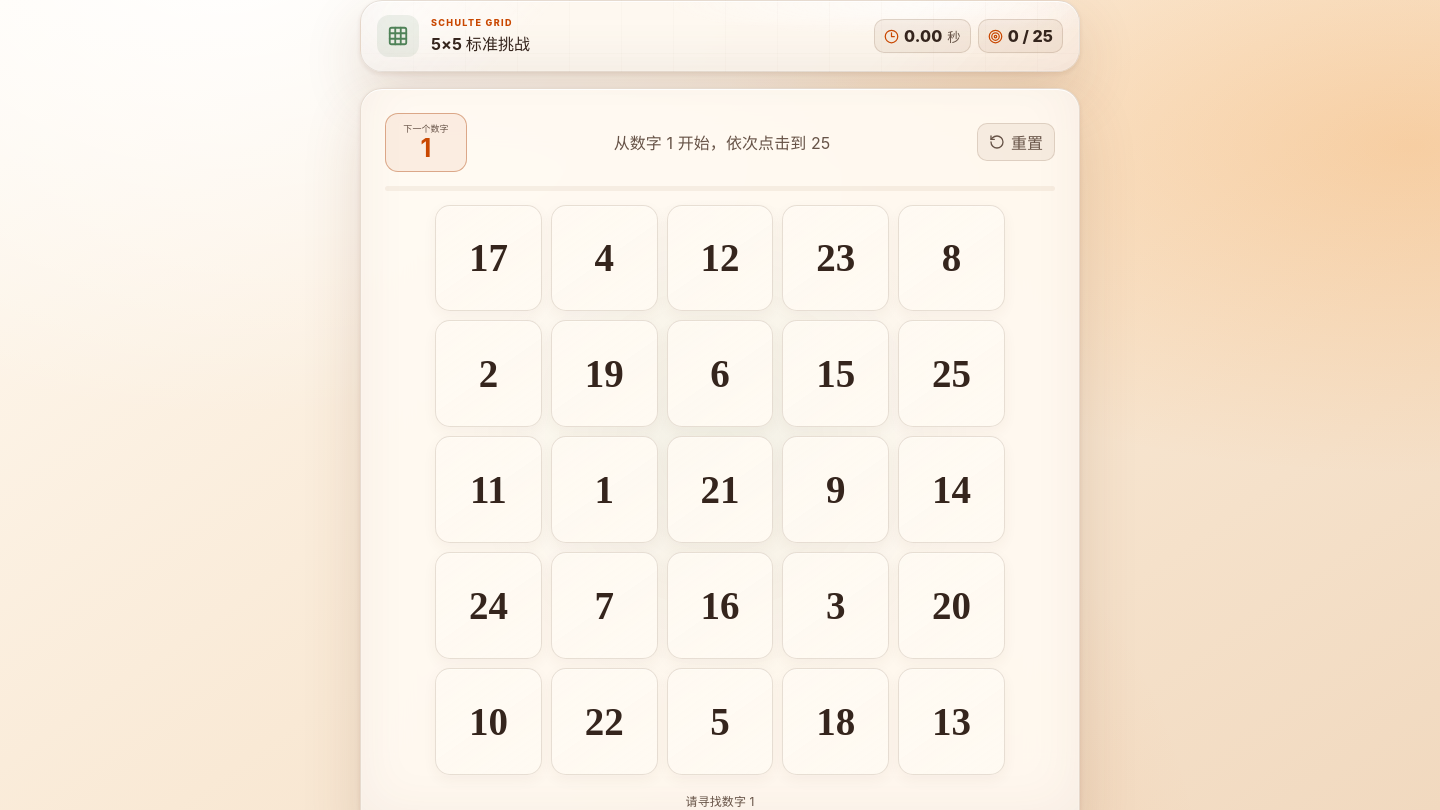
Scenario: SchulteGrid › updates the next number immediately and reports wrong taps
Step 1. Click the cell named "数字 17" → (488,258), box top-left (435, 204), bottom-right (542, 311)
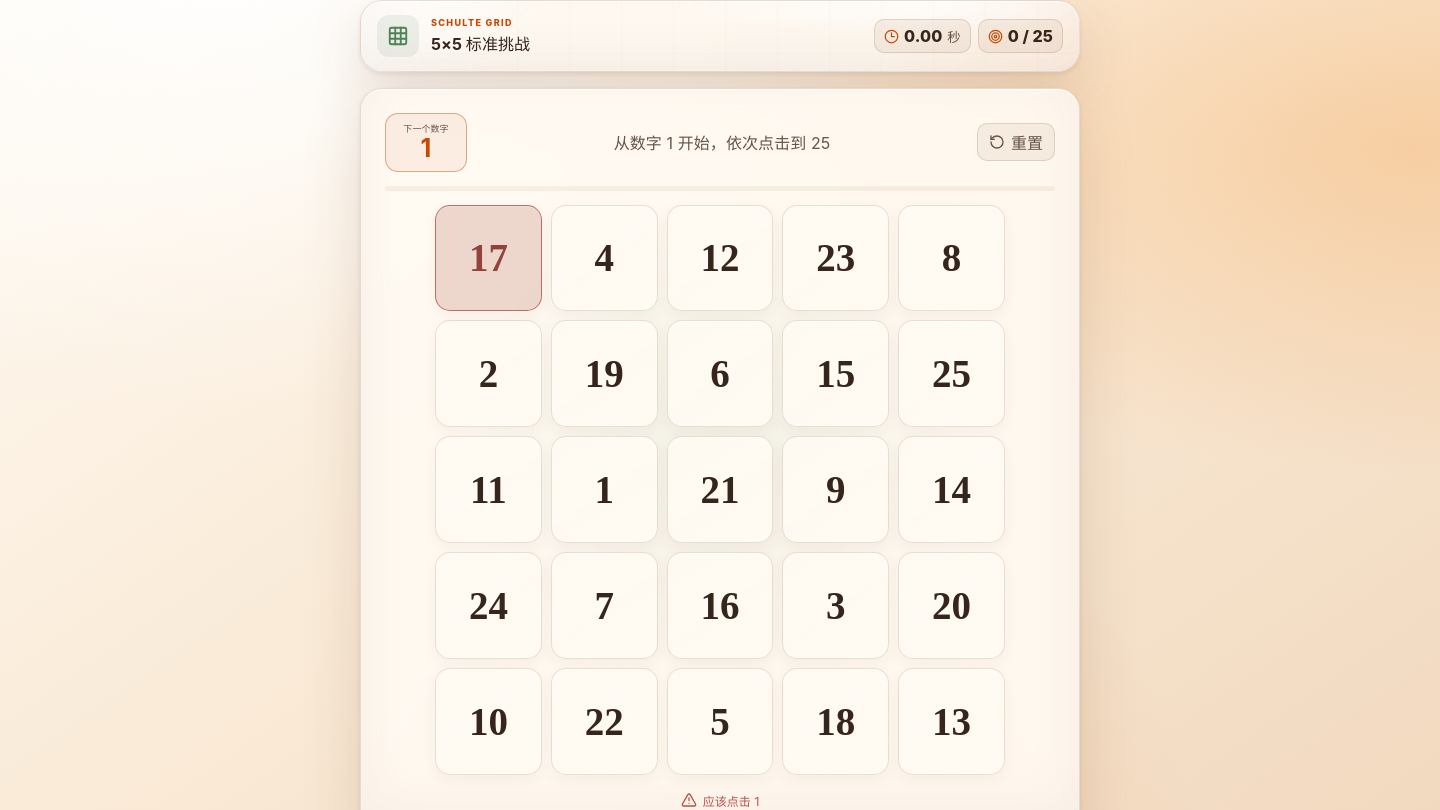
Expected: the text "应该点击 1" is shown, top-left (681, 792), bottom-right (759, 808)
Step 2. Click the cell named "数字 1" → (604,490), box top-left (551, 436), bottom-right (658, 543)
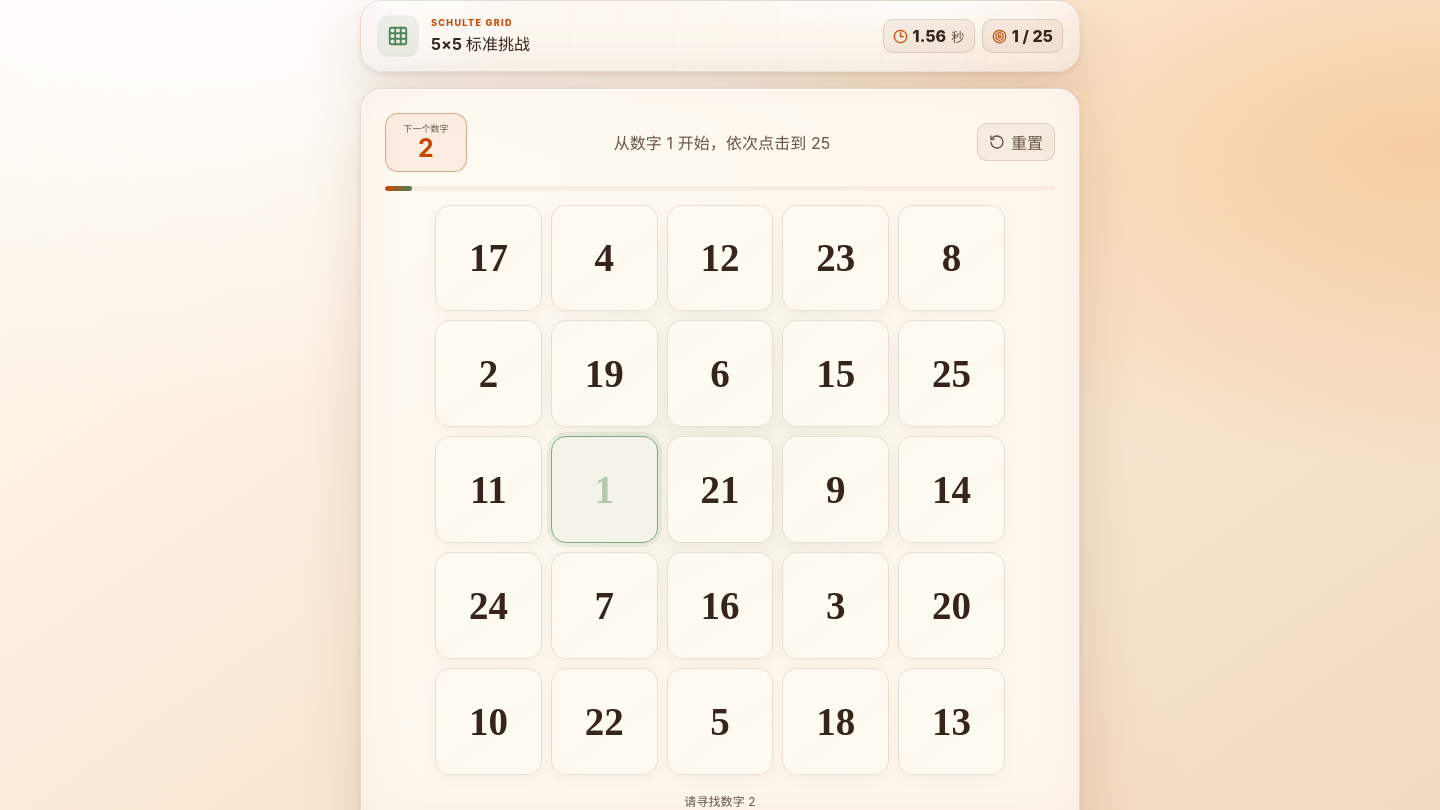
Expected: the text "请寻找数字 2" is shown, top-left (684, 794), bottom-right (756, 808)
